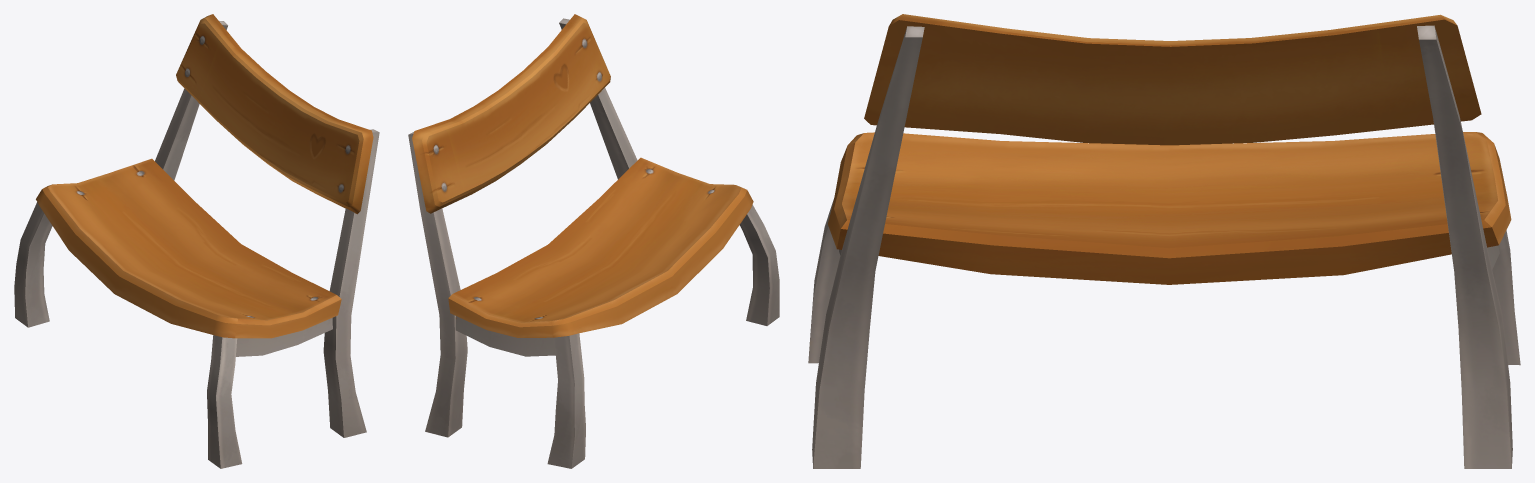
Rendered from Bench.FBX.
3 views of the same model, side by side, from view 1: azimuth 30°, elevation 25°; view 2: azimuth 150°, elevation 25°; view 3: azimuth 270°, elevation 25° (orthographic). The views are drawn at different scales.
Parts seen in each view (by area): view 1: Bench; view 2: Bench; view 3: Bench.
Boxes of the visible parts, x1,y1,x2,y2 form: Bench: (14, 14, 379, 468); Bench: (408, 14, 779, 468); Bench: (808, 14, 1520, 468).
Bounding box in the file's own units: 85.66 × 120 × 163.
Materials: 1 (1 with a texture image).
